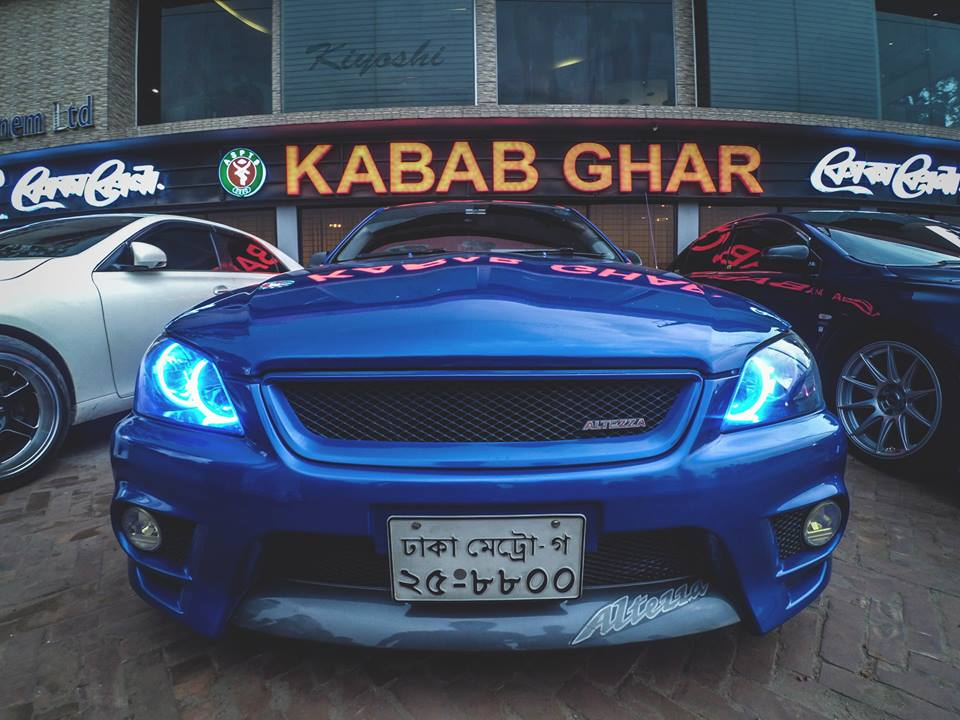registration_plate: (385, 513, 588, 603)
